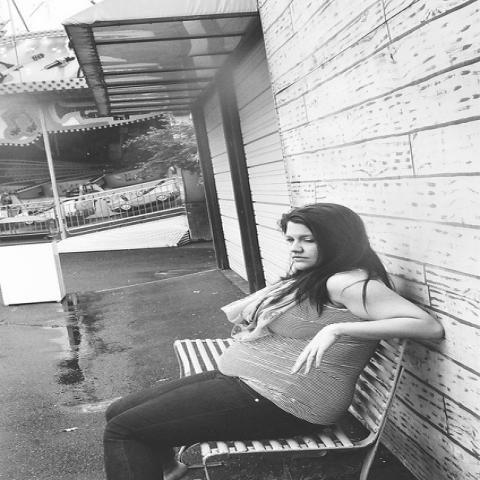car: (107, 182, 181, 213), (64, 199, 95, 218)
